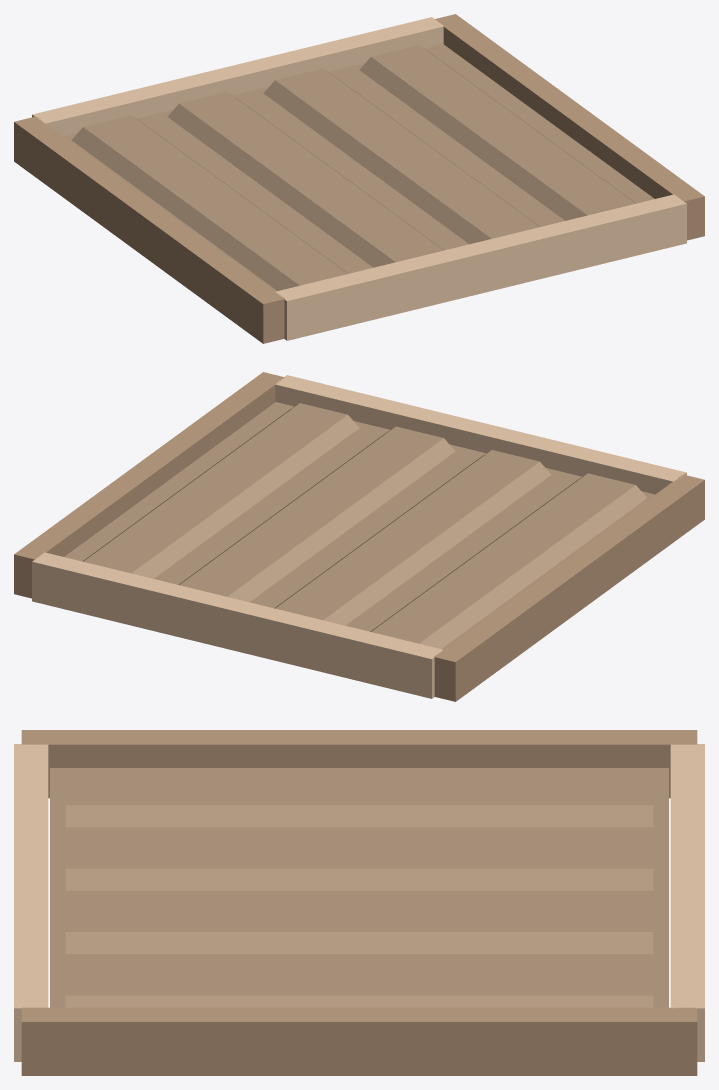
The model's file is crafted-garden-bed-wet-empty.glb.
The picture shows the model from 3 angles, top to bottom: view 1: azimuth 30°, elevation 25°; view 2: azimuth 150°, elevation 25°; view 3: azimuth 270°, elevation 25°; orthographic projection. The views are drawn at different scales.
Visible parts, largest first — view 1: end-border-1, soil-base, side-border, furrow-ridge-2, furrow-ridge-3, furrow-ridge, furrow-ridge-1, end-border, side-border-1; view 2: end-border, soil-base, side-border, furrow-ridge-2, furrow-ridge-3, furrow-ridge, furrow-ridge-1, end-border-1, side-border-1; view 3: side-border-1, furrow-ridge, furrow-ridge-1, furrow-ridge-2, soil-base, furrow-ridge-3, side-border, end-border, end-border-1.
Part boxes in pixels (left/top/right/bottom): end-border-1: left=275, top=194, right=686, bottom=340; soil-base: left=64, top=44, right=654, bottom=291; side-border: left=14, top=116, right=284, bottom=343; furrow-ridge-2: left=263, top=68, right=540, bottom=244; furrow-ridge-3: left=359, top=45, right=636, bottom=220; furrow-ridge: left=71, top=115, right=348, bottom=290; furrow-ridge-1: left=167, top=92, right=444, bottom=267; end-border: left=32, top=17, right=443, bottom=136; side-border-1: left=434, top=14, right=704, bottom=240; end-border: left=32, top=552, right=442, bottom=698; soil-base: left=64, top=402, right=654, bottom=649; side-border: left=434, top=474, right=704, bottom=701; furrow-ridge-2: left=178, top=426, right=455, bottom=602; furrow-ridge-3: left=82, top=403, right=359, bottom=578; furrow-ridge: left=370, top=473, right=647, bottom=648; furrow-ridge-1: left=274, top=450, right=551, bottom=625; end-border-1: left=275, top=375, right=686, bottom=494; side-border-1: left=14, top=372, right=284, bottom=598; side-border-1: left=21, top=1007, right=697, bottom=1075; furrow-ridge: left=65, top=773, right=653, bottom=827; furrow-ridge-1: left=65, top=837, right=653, bottom=890; furrow-ridge-2: left=65, top=900, right=653, bottom=953; soil-base: left=50, top=768, right=668, bottom=1007; furrow-ridge-3: left=65, top=964, right=653, bottom=1007; side-border: left=21, top=730, right=697, bottom=798; end-border: left=670, top=744, right=704, bottom=1061; end-border-1: left=14, top=744, right=48, bottom=1061.
Size of the model in its own units: 1.11 by 0.095 by 1.11.
